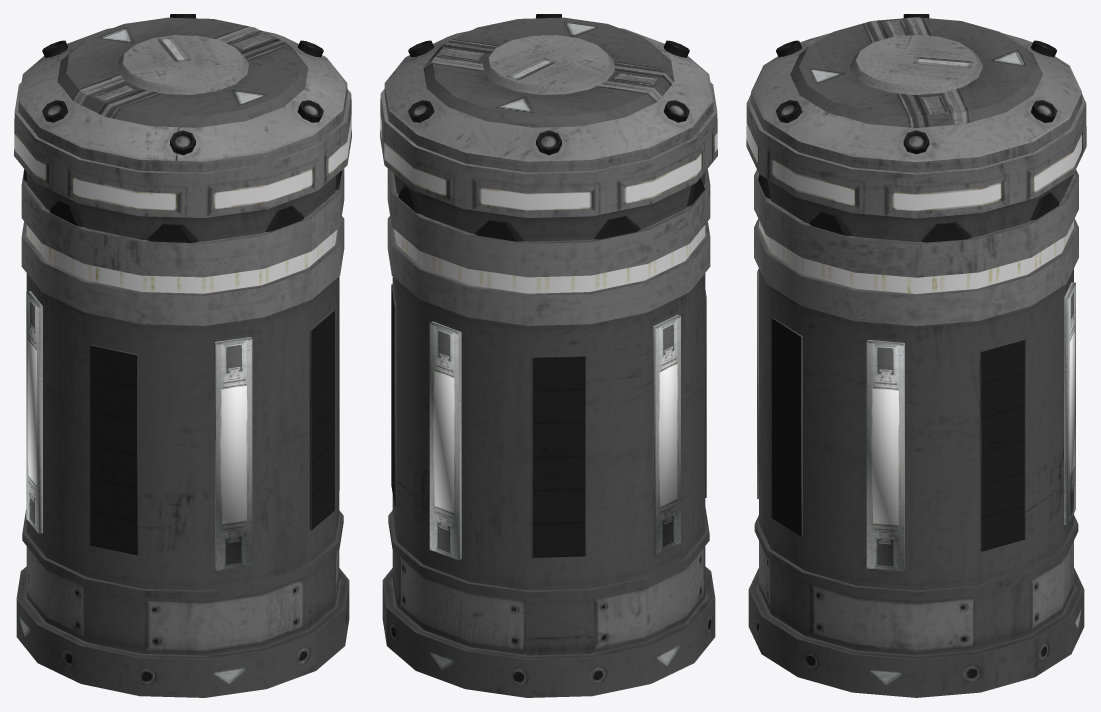
The model's file is PowerCell Full.fbx.
3 renders of one model, left to right at view 1: azimuth 30°, elevation 25°; view 2: azimuth 150°, elevation 25°; view 3: azimuth 270°, elevation 25°, orthographic.
Parts seen in each view (by area): view 1: PowerCell_Full; view 2: PowerCell_Full; view 3: PowerCell_Full.
Boxes of the visible parts, x1,y1,x2,y2 form: PowerCell_Full: (14,14,351,697); PowerCell_Full: (380,14,717,697); PowerCell_Full: (746,14,1086,697).
Bounding box in the file's own units: 23.84 × 43.78 × 23.84.
